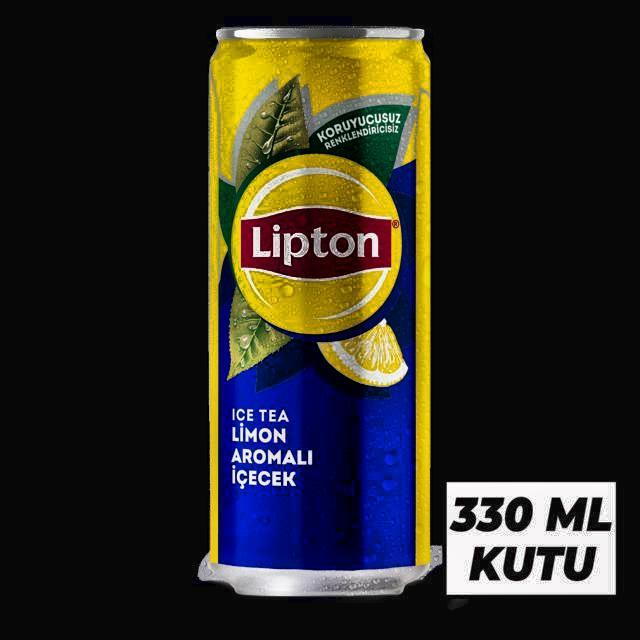metal: (196, 27, 431, 599)
